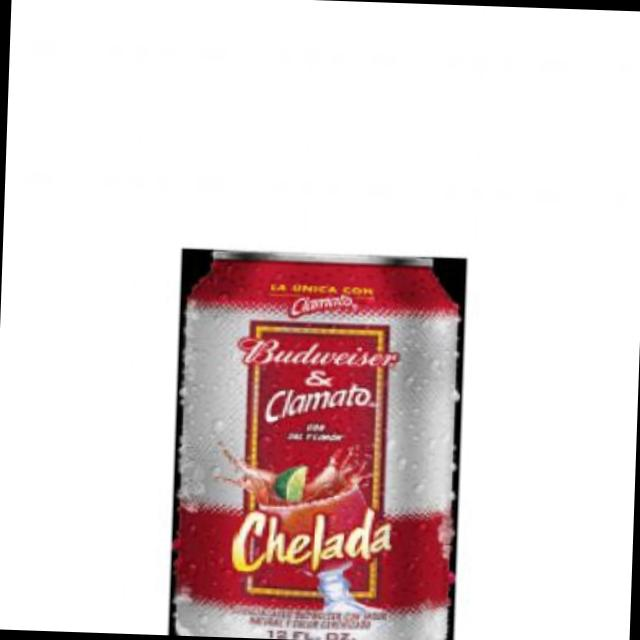metal: (172, 248, 459, 640)
